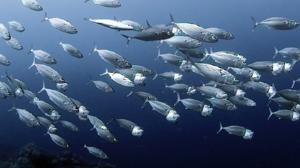Scombridae -Tunas-: (179, 53, 239, 84), (163, 12, 218, 43), (84, 38, 131, 70), (36, 80, 79, 114), (23, 55, 66, 84), (247, 11, 300, 33), (122, 26, 173, 47), (214, 118, 258, 140), (39, 11, 78, 35), (138, 96, 177, 120), (83, 0, 122, 11), (12, 0, 44, 11), (0, 11, 11, 42)
